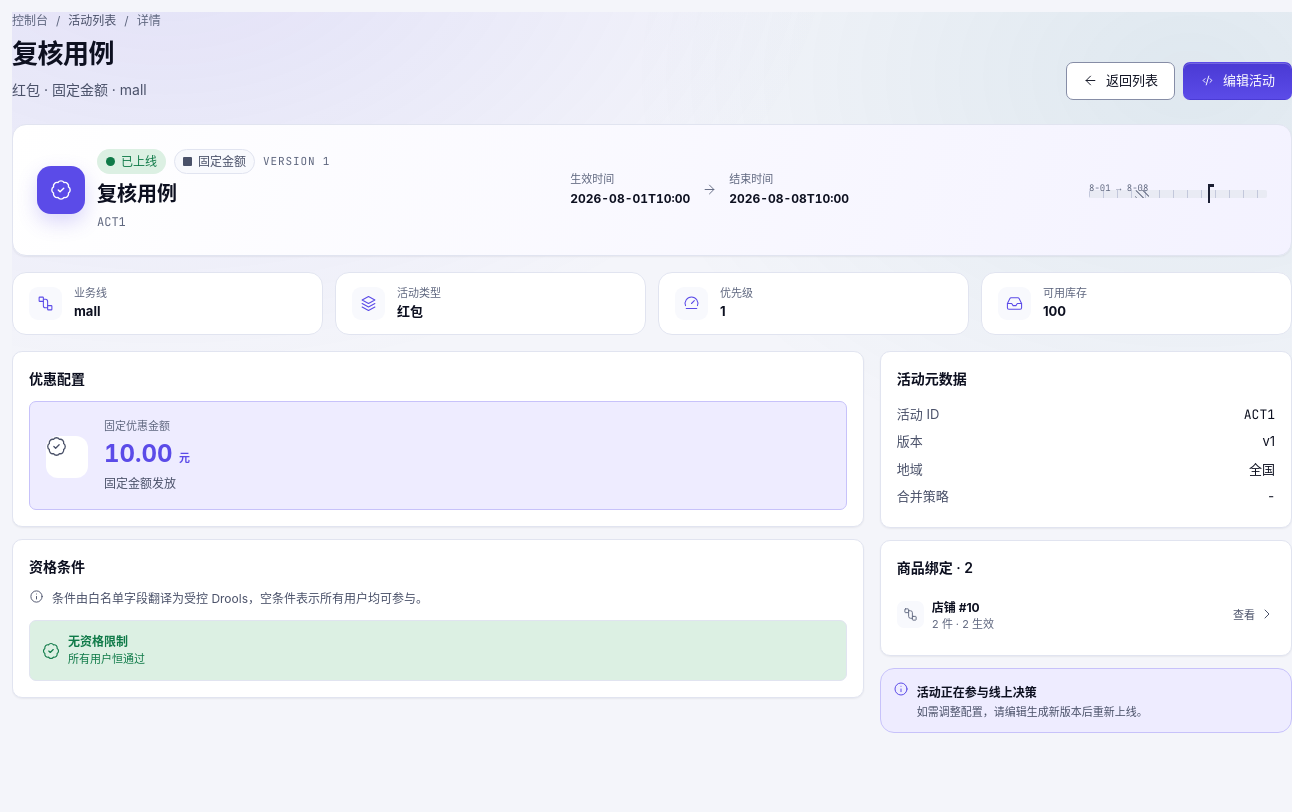
Test case: DetailView 商品绑定：店铺聚合 + 点击下钻 › 点“查看”才触发下钻 fetch，且带对 storeId
Click the button with class "store-row" at {"x": 956, "y": 607}, box top-left (897, 590), bottom-right (1275, 639)
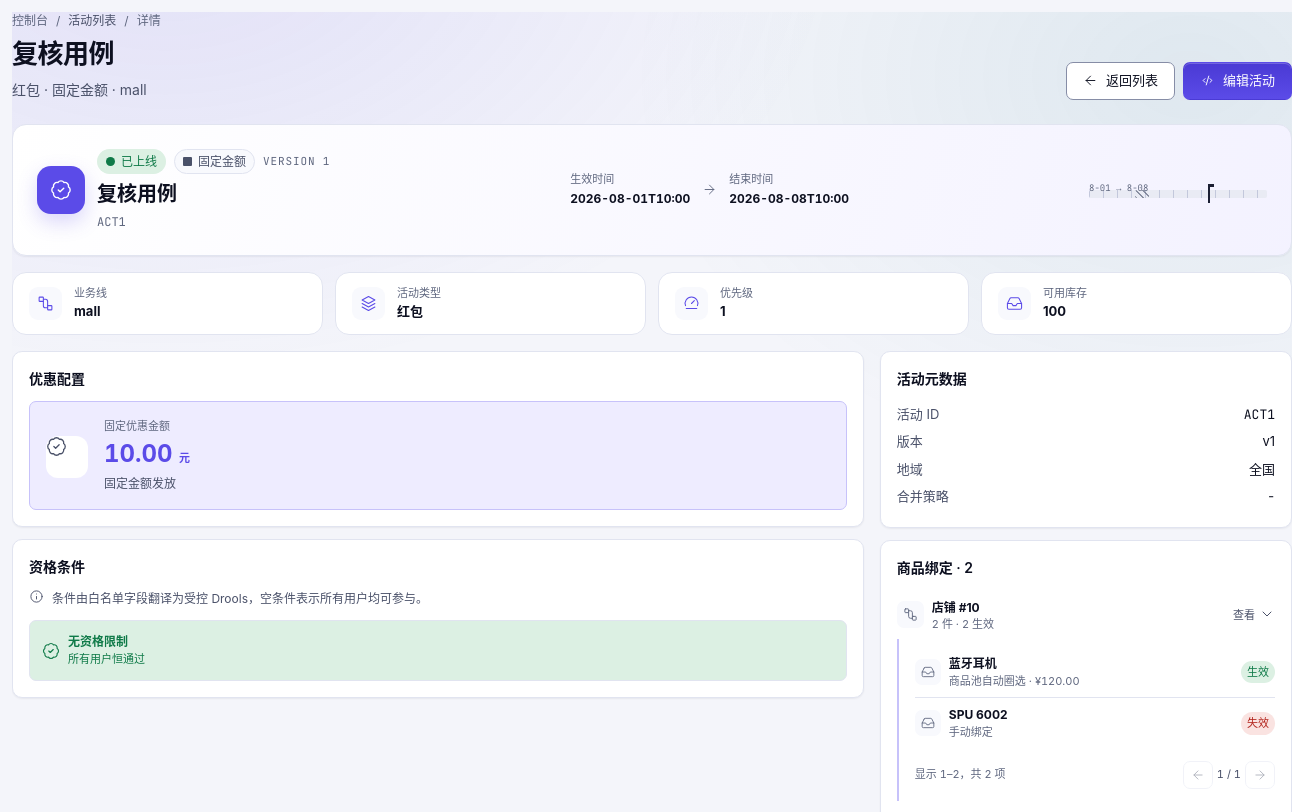
Now the element with test id "binding-spu-6001" shows "蓝牙耳机", box top-left (949, 656), bottom-right (997, 671)
Now the element with test id "binding-spu-6002" shows "SPU 6002", box top-left (949, 707), bottom-right (1008, 722)
Now the element with test id "binding-spu-6002" shows "失效", box top-left (1247, 716), bottom-right (1269, 730)
